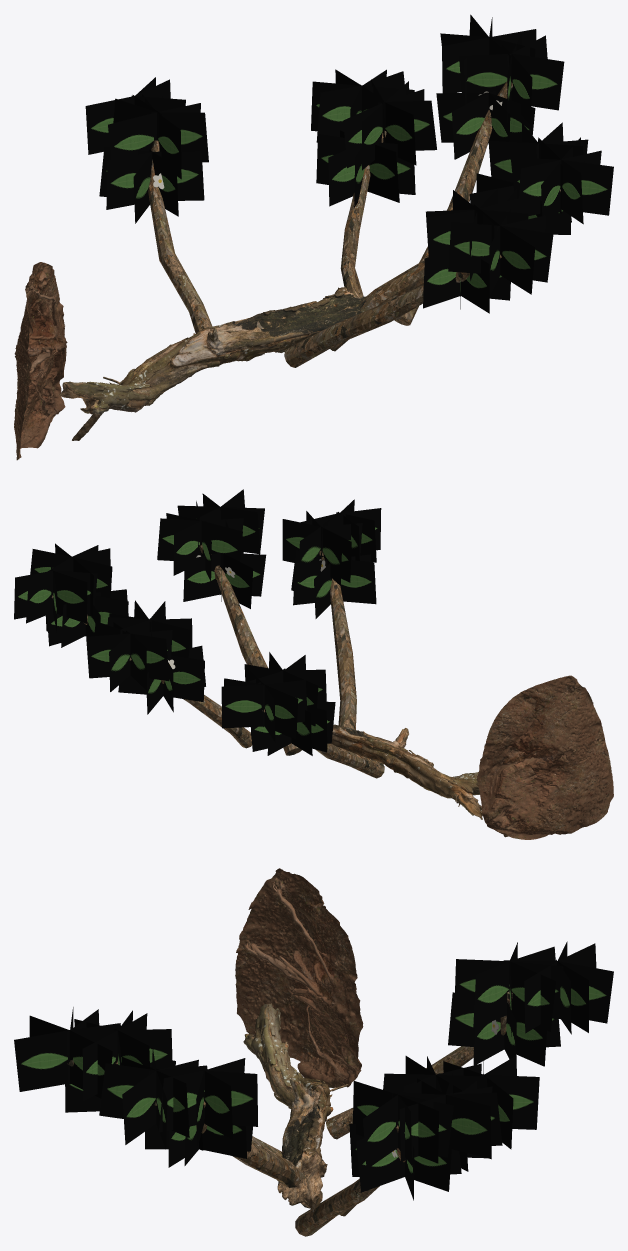
File: FallenFrangipani.glb
3 views of the same model, one above another, from view 1: azimuth 30°, elevation 25°; view 2: azimuth 150°, elevation 25°; view 3: azimuth 270°, elevation 25° (orthographic). The views are drawn at different scales.
Parts seen in each view (by area): view 1: dead_tree_trunk_02_LOD0, root_cluster_01, BRANCH_2, BRANCH_3, LEAF_7_3, LEAF_4_7, BRANCH_4, LEAF_4_3, LEAF_10_4, LEAF_1_7, LEAF_9_4, LEAF_7_6 (+32 smaller); view 2: root_cluster_01, dead_tree_trunk_02_LOD0, BRANCH_2, LEAF_11_1, BRANCH_0, LEAF_0_1, LEAF_12_4, LEAF_5_4, LEAF_6_4, LEAF_14_1, LEAF_5_2, LEAF_2_4 (+30 smaller); view 3: root_cluster_01, dead_tree_trunk_02_LOD0, LEAF_7_6, LEAF_5_1, LEAF_10_7, LEAF_1_7, LEAF_14_2, LEAF_4_7, BRANCH_1, LEAF_1_6, LEAF_2_2, LEAF_10_1 (+36 smaller).
Boxes of the visible parts, x1,y1,x2,y2 form: dead_tree_trunk_02_LOD0: [59, 287, 365, 440]; root_cluster_01: [14, 262, 67, 460]; BRANCH_2: [284, 277, 461, 367]; BRANCH_3: [148, 180, 212, 333]; LEAF_7_3: [448, 222, 505, 273]; LEAF_4_7: [511, 53, 564, 110]; BRANCH_4: [340, 169, 370, 297]; LEAF_4_3: [459, 53, 510, 95]; LEAF_10_4: [108, 113, 154, 159]; LEAF_1_7: [560, 159, 613, 215]; LEAF_9_4: [106, 151, 155, 209]; LEAF_7_6: [500, 227, 535, 294]; root_cluster_01: [476, 675, 613, 839]; dead_tree_trunk_02_LOD0: [331, 724, 507, 837]; BRANCH_2: [329, 582, 356, 729]; LEAF_11_1: [221, 684, 267, 728]; BRANCH_0: [217, 575, 301, 755]; LEAF_0_1: [183, 553, 219, 601]; LEAF_12_4: [171, 655, 204, 701]; LEAF_5_4: [50, 570, 87, 623]; LEAF_6_4: [340, 560, 376, 604]; LEAF_14_1: [86, 633, 128, 678]; LEAF_5_2: [26, 569, 56, 623]; LEAF_2_4: [202, 521, 242, 568]; root_cluster_01: [235, 868, 363, 1087]; dead_tree_trunk_02_LOD0: [243, 1003, 348, 1205]; LEAF_7_6: [14, 1030, 69, 1091]; LEAF_5_1: [442, 1094, 491, 1159]; LEAF_10_7: [473, 960, 512, 1028]; LEAF_1_7: [122, 1070, 156, 1144]; LEAF_14_2: [481, 1074, 539, 1129]; LEAF_4_7: [363, 1094, 398, 1168]; BRANCH_1: [295, 1159, 405, 1236]; LEAF_1_6: [99, 1063, 163, 1118]; LEAF_2_2: [208, 1071, 257, 1126]; LEAF_10_1: [510, 961, 556, 1031].
Size of what is drawn, in the model's own units: 5.69 by 2.2 by 4.52.
4 materials, 4 textured.
